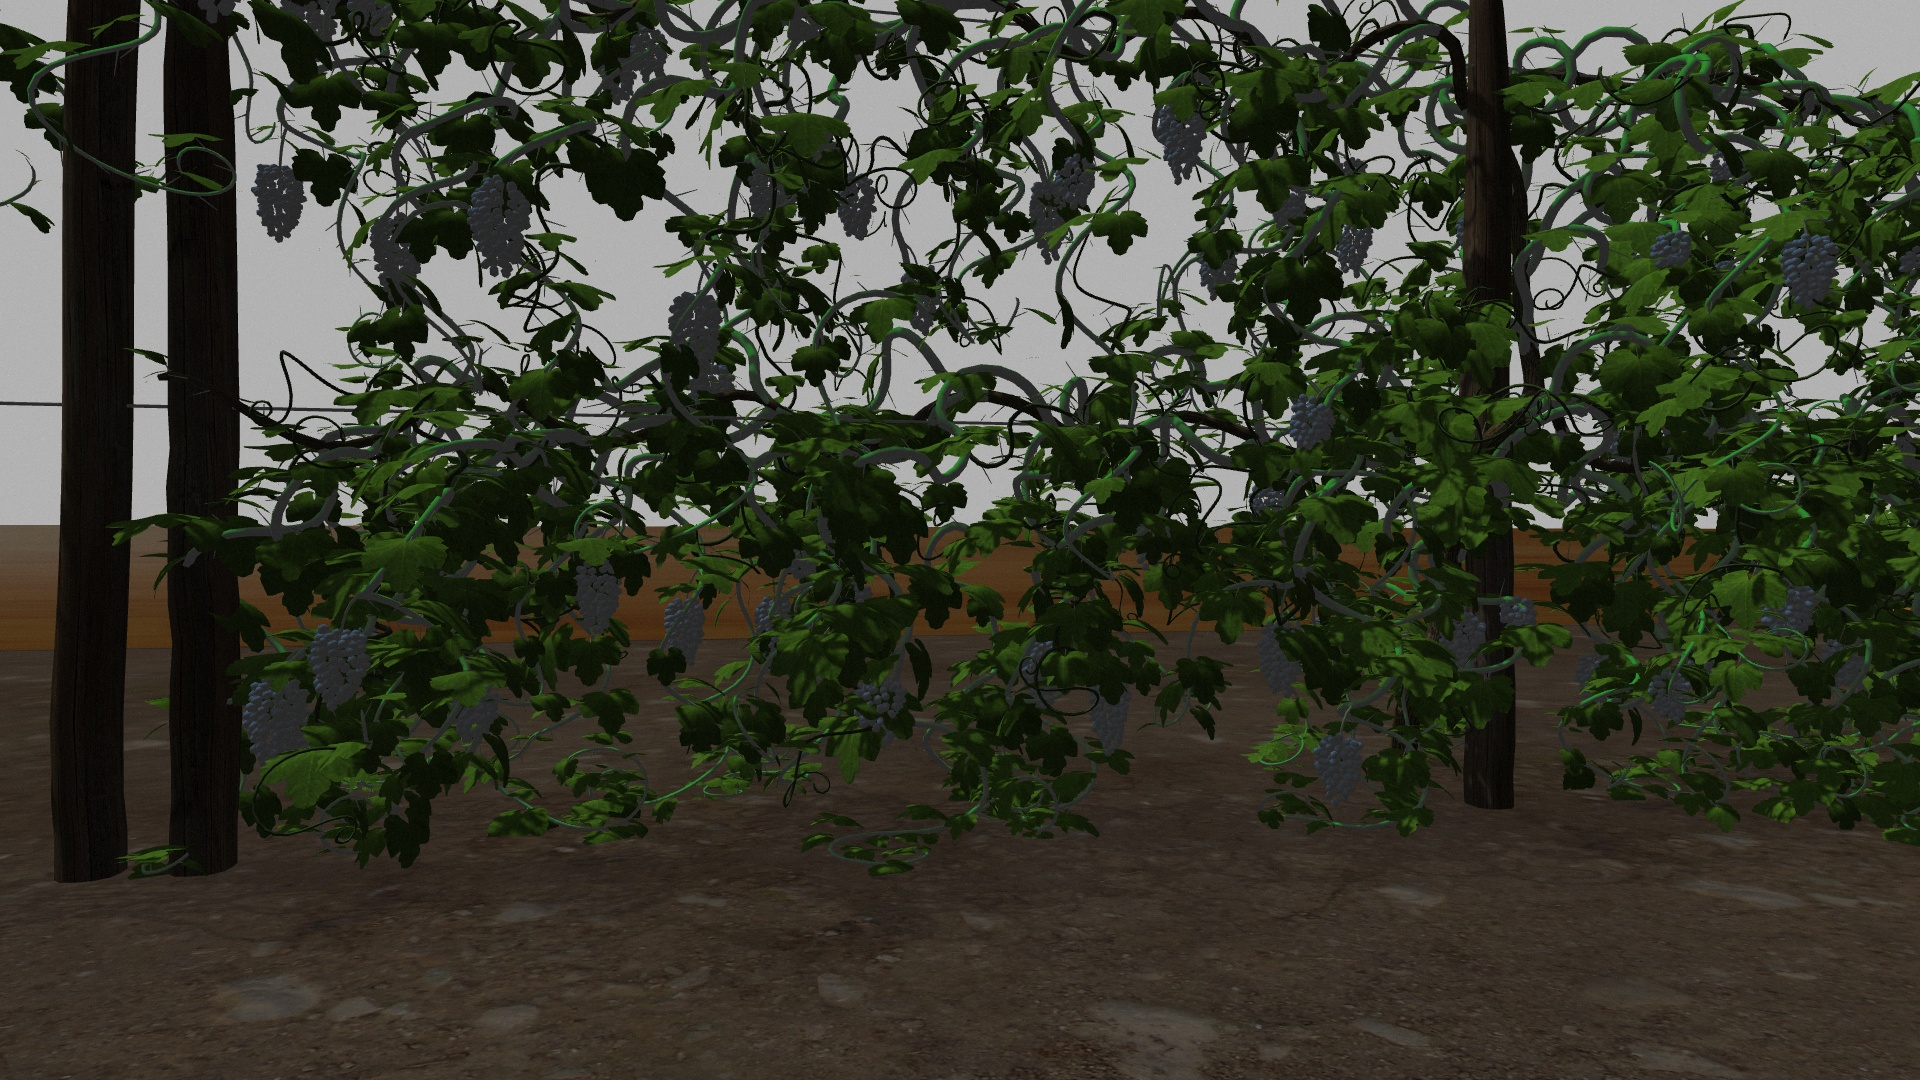grape: (465, 174, 531, 278), (241, 676, 313, 765), (309, 620, 371, 713), (1158, 91, 1209, 185), (669, 291, 723, 378), (251, 165, 307, 245), (1779, 233, 1840, 309), (571, 560, 622, 644), (369, 214, 423, 289), (1255, 621, 1305, 702), (1313, 732, 1367, 806), (1029, 181, 1071, 264), (661, 595, 707, 670), (1760, 583, 1817, 644), (1089, 680, 1131, 754), (1647, 666, 1695, 725), (837, 173, 877, 241), (1290, 394, 1336, 452), (1440, 608, 1486, 666), (455, 686, 498, 746), (856, 682, 909, 731), (593, 47, 638, 104), (1196, 243, 1238, 301), (746, 169, 791, 222), (1336, 219, 1374, 276), (1060, 156, 1096, 208), (633, 32, 669, 80), (1651, 231, 1693, 272), (1498, 596, 1538, 626), (1253, 487, 1284, 514)
